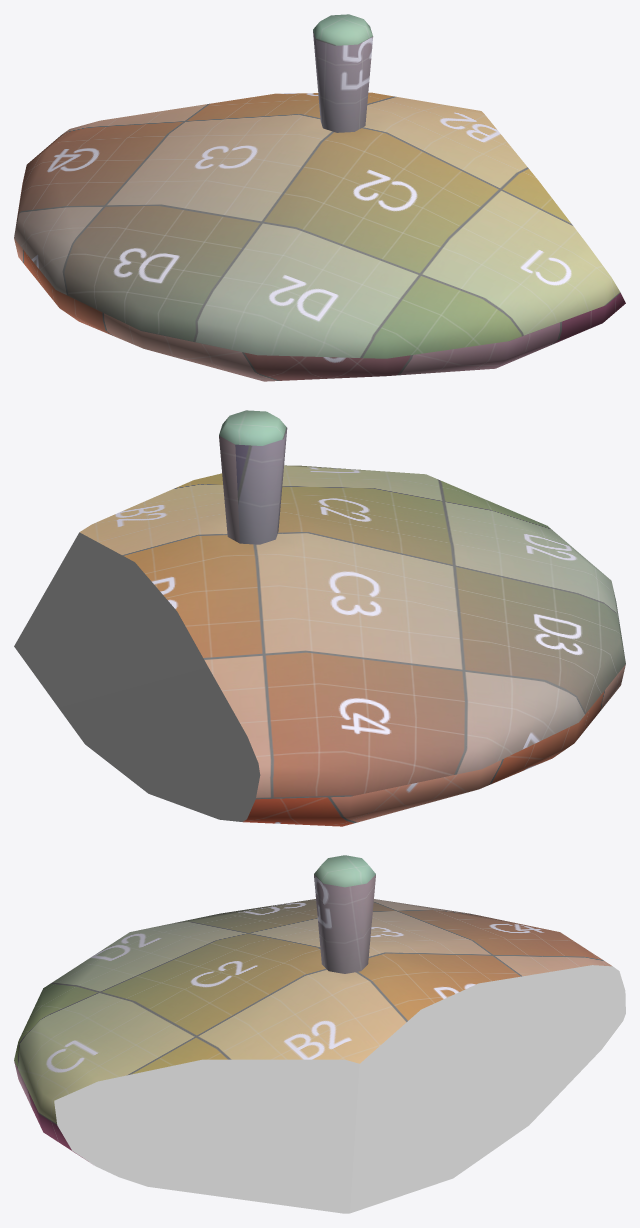
Rendered from MediumUrnLid_SHAT_cell.fbx.
3 renders of one model, top to bottom at view 1: azimuth 30°, elevation 25°; view 2: azimuth 150°, elevation 25°; view 3: azimuth 270°, elevation 25°, orthographic. The views are drawn at different scales.
Visible parts, largest first — view 1: MediumUrnLid_SHAT_cell.003; view 2: MediumUrnLid_SHAT_cell.003; view 3: MediumUrnLid_SHAT_cell.003.
Boxes of the visible parts, x1=… form: MediumUrnLid_SHAT_cell.003: x1=14, y1=14, x2=625, y2=381; MediumUrnLid_SHAT_cell.003: x1=14, y1=410, x2=625, y2=826; MediumUrnLid_SHAT_cell.003: x1=14, y1=855, x2=625, y2=1213.
Bounding box in the file's own units: 0.5536 × 0.3114 × 0.5933.
2 materials, 1 textured.
